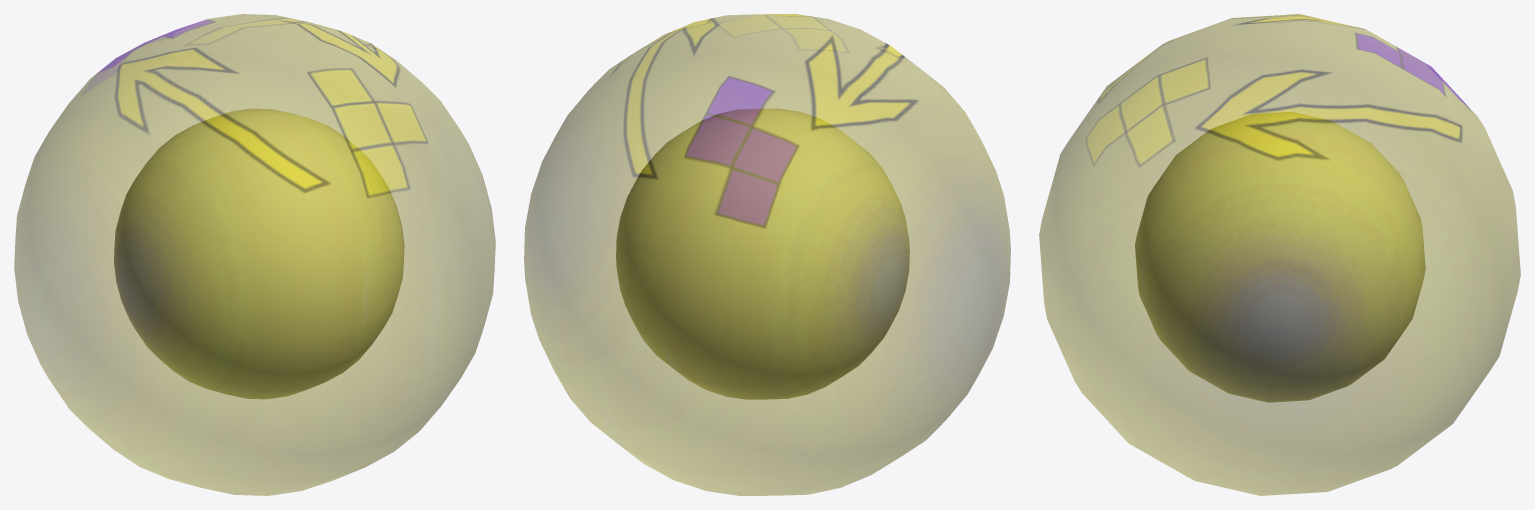
Rendered from Piece Swap.fbx.
3 views of the same model, side by side, from view 1: azimuth 30°, elevation 25°; view 2: azimuth 150°, elevation 25°; view 3: azimuth 270°, elevation 25° (orthographic).
Visible parts, largest first — view 1: polySurface5; view 2: polySurface5; view 3: polySurface5.
Part boxes in pixels (x1,y1,x2,y2): polySurface5: [14, 14, 495, 495]; polySurface5: [524, 14, 1010, 495]; polySurface5: [1039, 14, 1520, 495].
Size of the model in its own units: 2 by 1.99 by 1.99.
